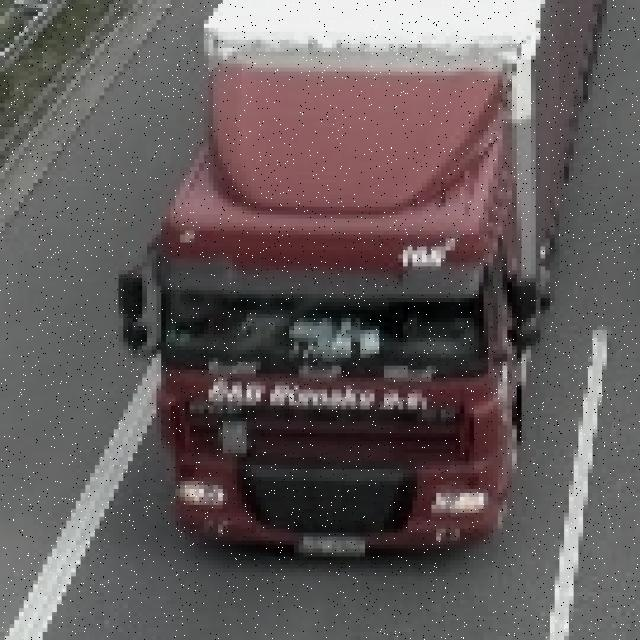truck: (123, 0, 607, 557)
